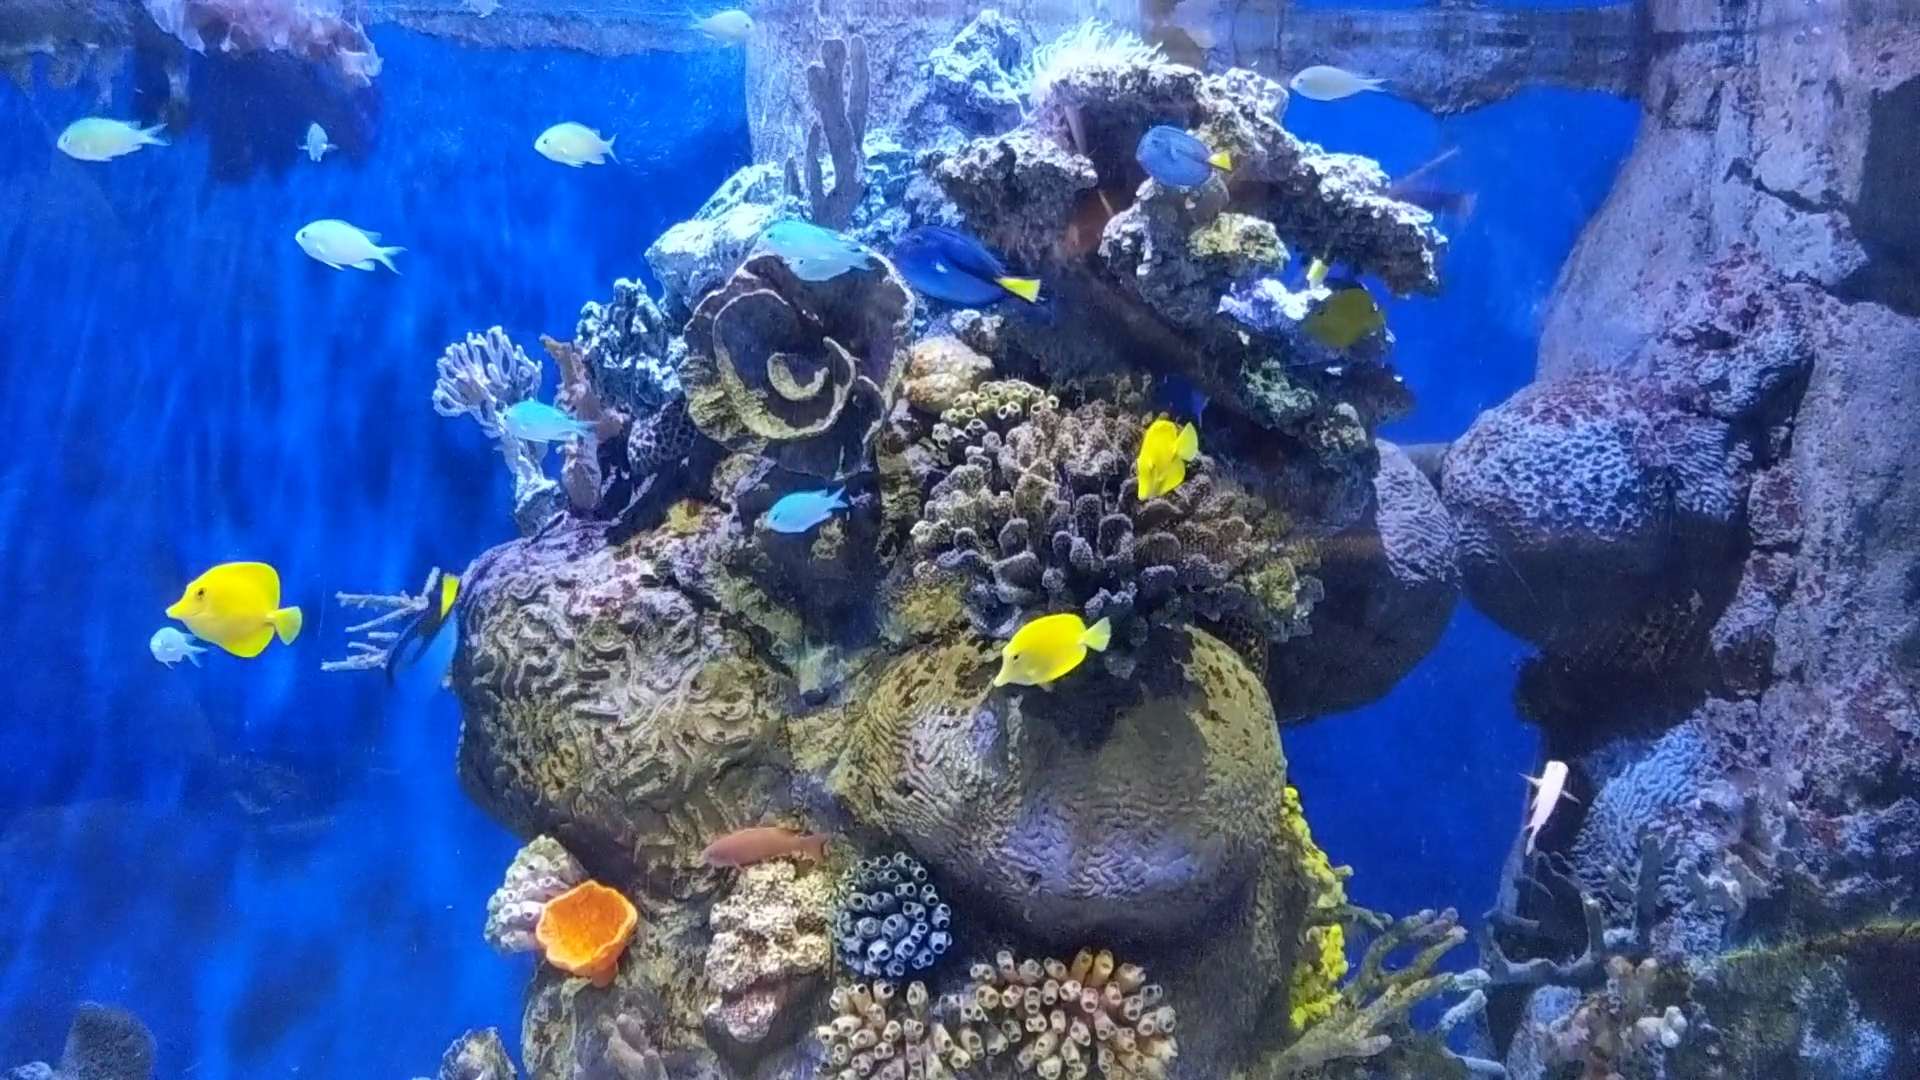blue tang surgeonfish: (876, 196, 1059, 332), (382, 564, 476, 727), (1124, 105, 1247, 207)
damselfish: (287, 204, 411, 294), (37, 103, 179, 171), (484, 386, 615, 460), (742, 200, 862, 280), (749, 464, 858, 542), (530, 105, 626, 173), (1269, 57, 1398, 105), (125, 624, 218, 673), (291, 119, 338, 171)
pink fish: (1505, 742, 1590, 861)
saddle butterfly fish: (141, 542, 318, 674), (963, 584, 1121, 696), (1112, 407, 1205, 500)
